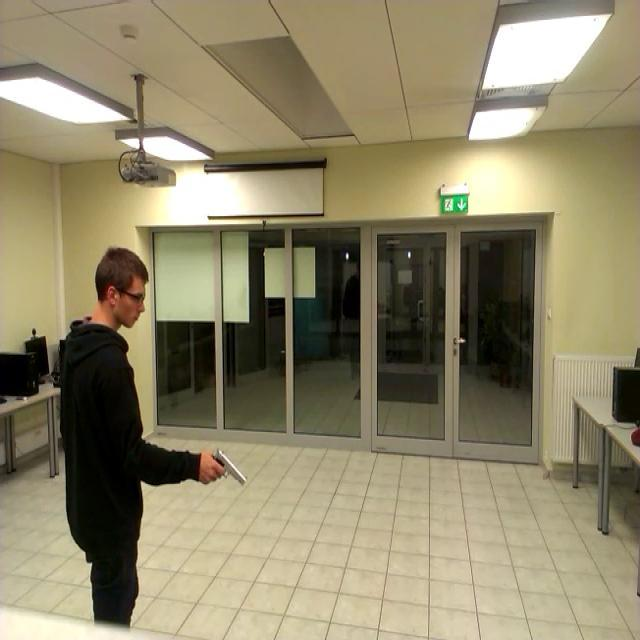Gun: (205, 426, 252, 496)
